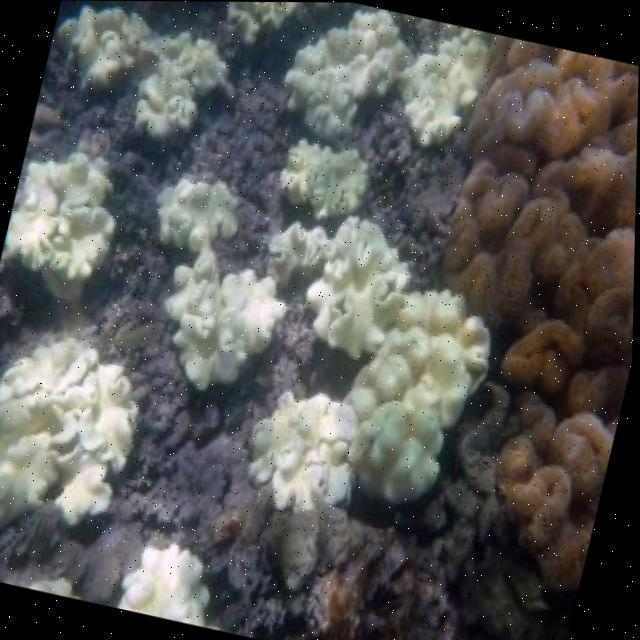Bleached Coral: (0, 12, 462, 640)
Dead Coral: (468, 34, 640, 575)
